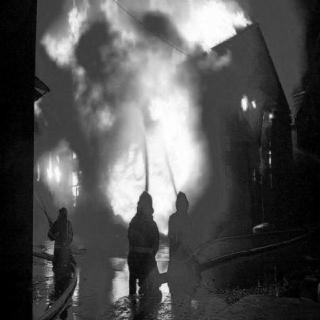Fire: (32, 0, 250, 230)
